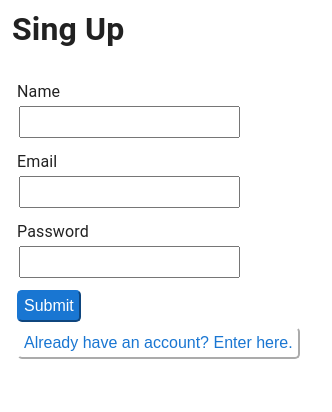
Test: SignUp › Sing Up form › user fill the form and submit › should show success message if all the data was filled
In the field labelled "Name": [130, 122] box [19,106,240,138], type "test name"
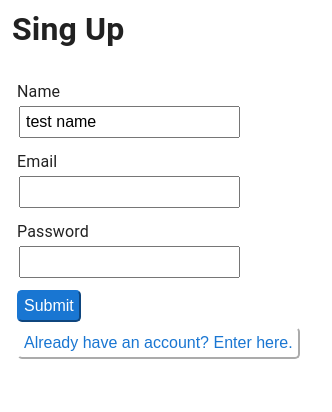
In the field labelled "Email": [130, 192] box [19,176,240,208], type "test email"
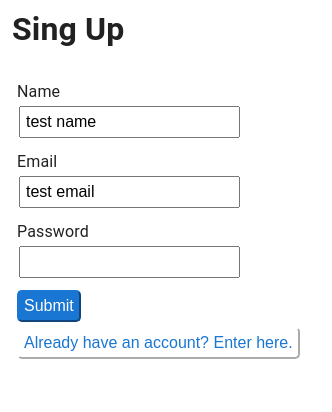
In the password field labelled "Password": [130, 262] box [19,246,240,278], type "test password"
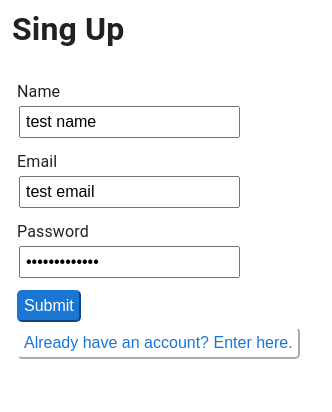
Click the button "Submit": [49, 306] box [17,290,81,322]
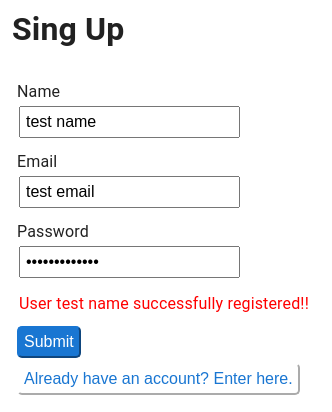
Expected: the text "User test name successfully registered!!" is shown, [19,294,309,313]
